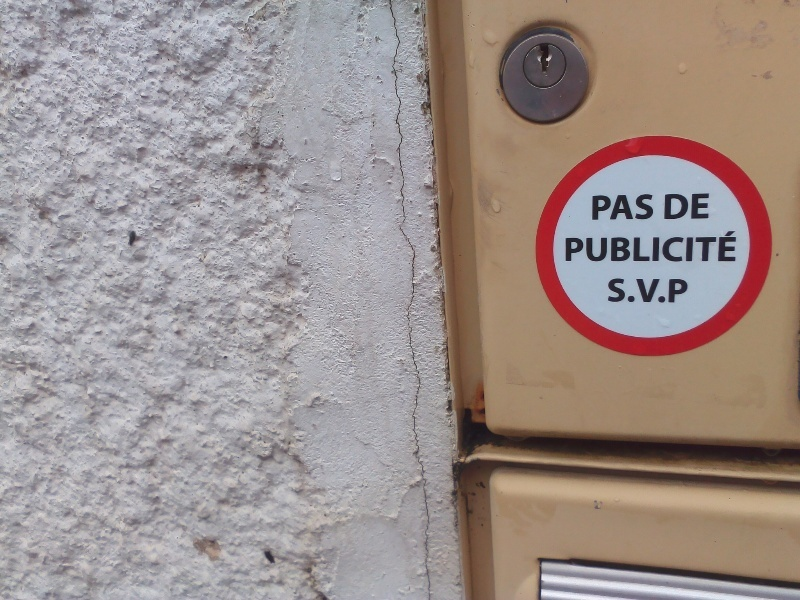text: (577, 231, 592, 264), (593, 231, 608, 264), (609, 231, 624, 264), (625, 231, 640, 264), (641, 231, 656, 264), (657, 231, 672, 264), (673, 231, 688, 264), (689, 231, 704, 264), (705, 231, 720, 264), (721, 231, 736, 264), (593, 193, 608, 223), (609, 193, 624, 223), (625, 193, 640, 223), (609, 278, 624, 306), (625, 278, 640, 306), (641, 278, 656, 306), (657, 278, 672, 306), (673, 278, 688, 306), (673, 193, 688, 220), (689, 193, 704, 220), (641, 193, 654, 223), (565, 231, 576, 264), (664, 193, 672, 220), (705, 193, 710, 220), (737, 231, 741, 264), (590, 193, 592, 223), (689, 278, 690, 306)
